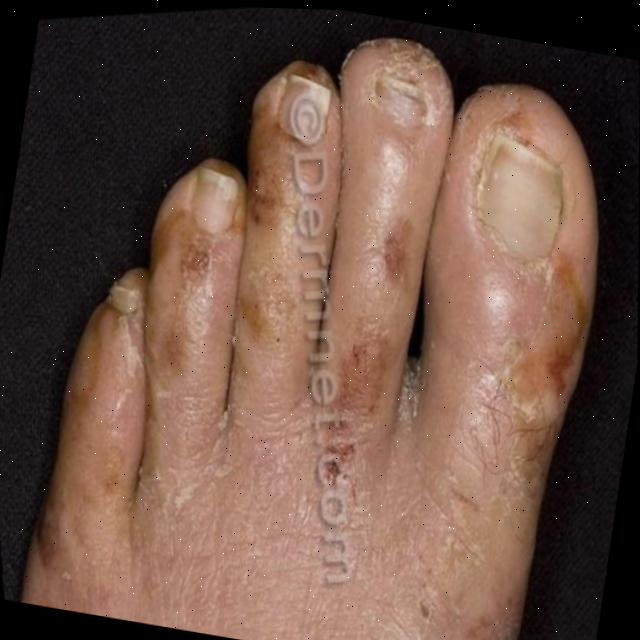Eczema: (419, 61, 622, 500), (298, 25, 440, 524), (30, 269, 155, 584), (227, 70, 350, 352), (144, 210, 235, 399)
